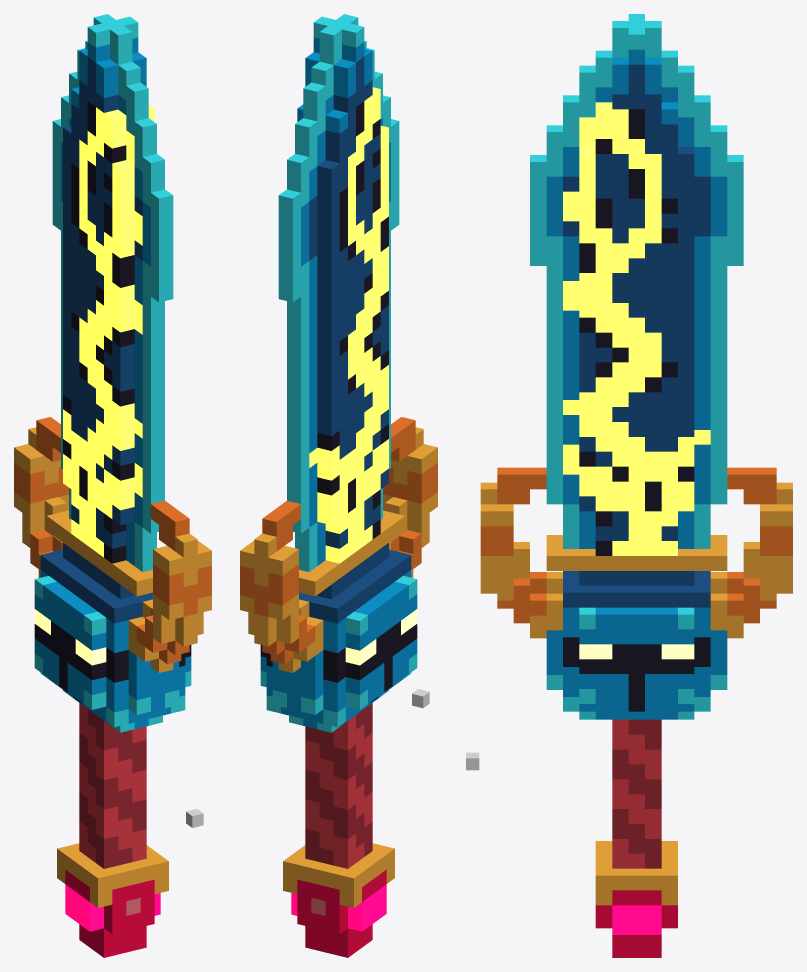
File: NoQuarter.fbx
The picture shows the model from 3 angles, left to right: view 1: azimuth 30°, elevation 25°; view 2: azimuth 150°, elevation 25°; view 3: azimuth 270°, elevation 25°; orthographic projection.
Parts seen in each view (by area): view 1: blue_l, blue_d, seam, gold, blue, ink, gold_d, cape_d, cape, ruby, rubyglow, eye; view 2: blue_d, blue_l, blue, gold, seam, gold_d, ink, cape_d, cape, ruby, rubyglow, eye; view 3: blue_d, blue, blue_l, seam, gold, ink, gold_d, cape_d, cape, ruby, rubyglow, eye.
Part boxes in pixels (box(x1,y1,x2,y2)): blue_l: box(34, 14, 191, 732); blue_d: box(40, 57, 152, 623); seam: box(63, 104, 154, 557); gold: box(14, 427, 211, 907); blue: box(34, 37, 191, 728); ink: box(34, 101, 191, 702); gold_d: box(14, 417, 211, 664); cape_d: box(79, 709, 146, 868); cape: box(79, 703, 146, 862); ruby: box(65, 869, 154, 957); rubyglow: box(65, 884, 160, 931); eye: box(34, 609, 106, 665); blue_d: box(299, 57, 411, 623); blue_l: box(260, 14, 417, 732); blue: box(260, 37, 417, 728); gold: box(240, 427, 437, 907); seam: box(309, 87, 388, 563); gold_d: box(240, 417, 437, 664); ink: box(260, 101, 417, 702); cape_d: box(305, 703, 372, 865); cape: box(305, 715, 372, 868); ruby: box(297, 869, 386, 957); rubyglow: box(291, 884, 386, 931); eye: box(345, 609, 417, 665); blue_d: box(563, 64, 710, 607); blue: box(546, 49, 727, 719); blue_l: box(530, 14, 743, 719); seam: box(563, 102, 710, 555); gold: box(480, 482, 792, 905); ink: box(563, 109, 710, 711); gold_d: box(480, 467, 792, 623); cape_d: box(612, 719, 661, 868); cape: box(612, 719, 661, 868); ruby: box(595, 890, 677, 957); rubyglow: box(612, 905, 661, 934); eye: box(579, 644, 694, 659).
Bounding box in the file's own units: 70 × 620 × 199.
